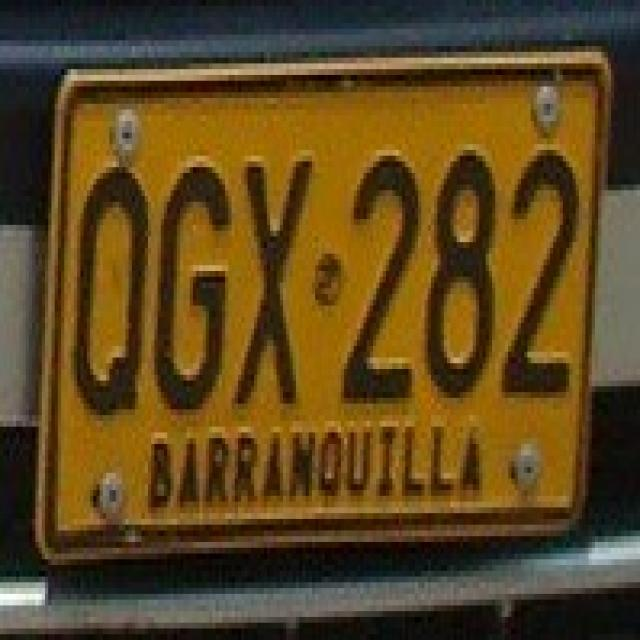placas: (66, 64, 593, 417)
